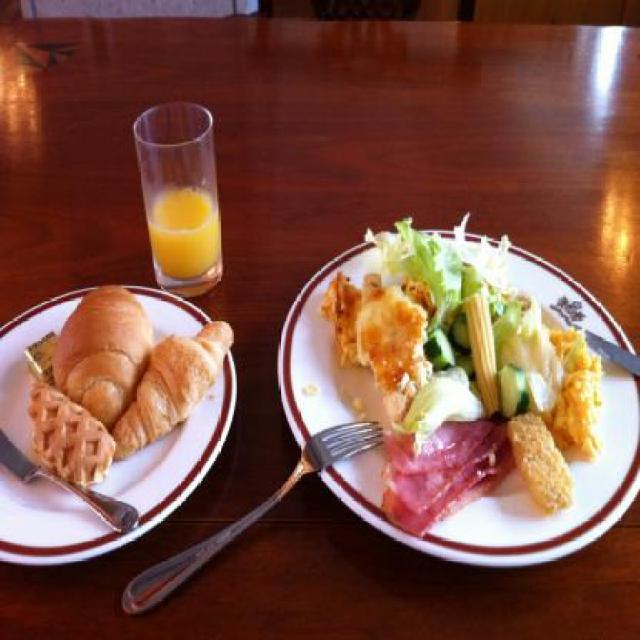Croissant: (56, 282, 152, 434), (122, 319, 222, 453)
